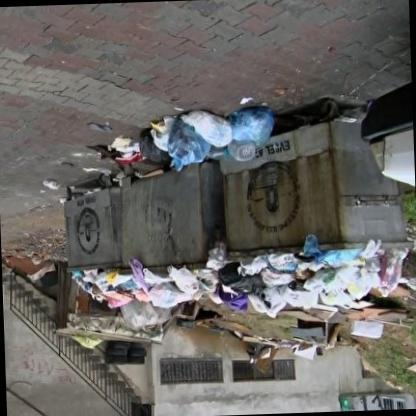Garbage: (74, 252, 412, 324), (221, 96, 281, 146), (176, 122, 212, 178), (180, 110, 228, 149), (91, 132, 145, 164), (136, 124, 170, 171), (379, 256, 411, 302), (140, 108, 172, 147), (124, 251, 152, 293), (317, 250, 347, 284), (171, 262, 204, 290), (82, 268, 120, 286), (229, 144, 256, 166), (286, 290, 313, 311), (206, 242, 224, 271), (298, 236, 324, 256), (362, 240, 380, 264), (33, 178, 53, 194)
